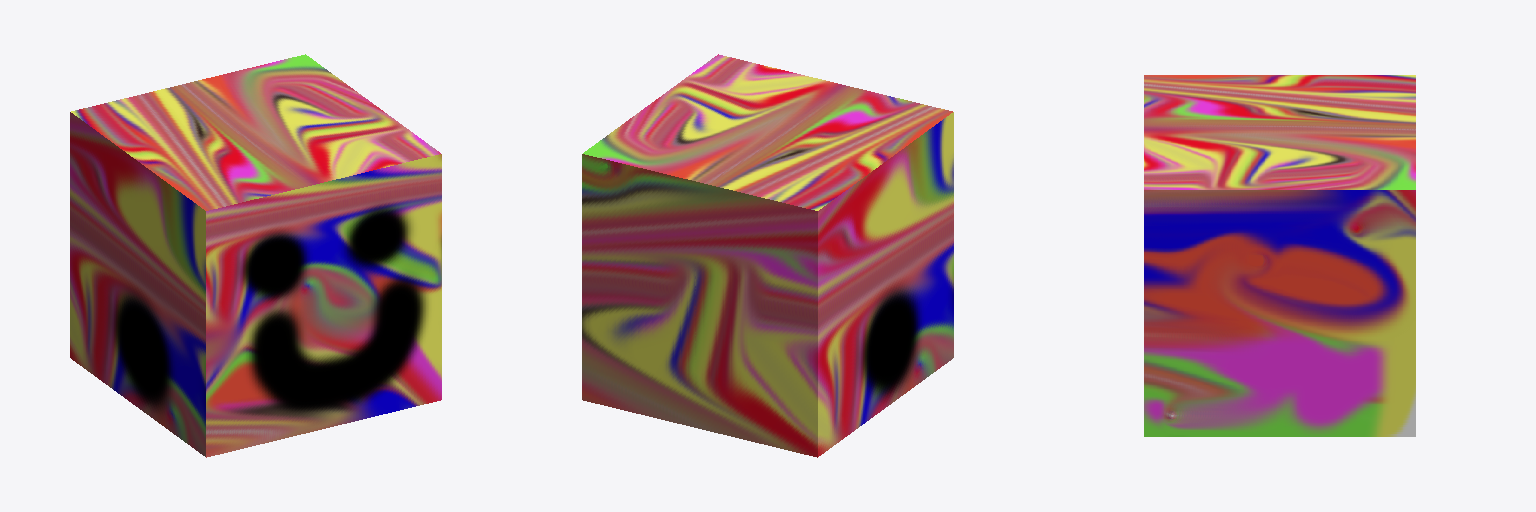
The picture shows the model from 3 angles: view 1: azimuth 30°, elevation 25°; view 2: azimuth 150°, elevation 25°; view 3: azimuth 270°, elevation 25°; orthographic projection.
Visible parts, largest first — view 1: Cube.002; view 2: Cube.002; view 3: Cube.002.
Boxes of the visible parts, x1,y1,x2,y2 form: Cube.002: [70, 54, 441, 457]; Cube.002: [582, 54, 953, 457]; Cube.002: [1144, 75, 1415, 436].
Size of the model in its own units: 2 by 2 by 2.
1 materials, 1 textured.